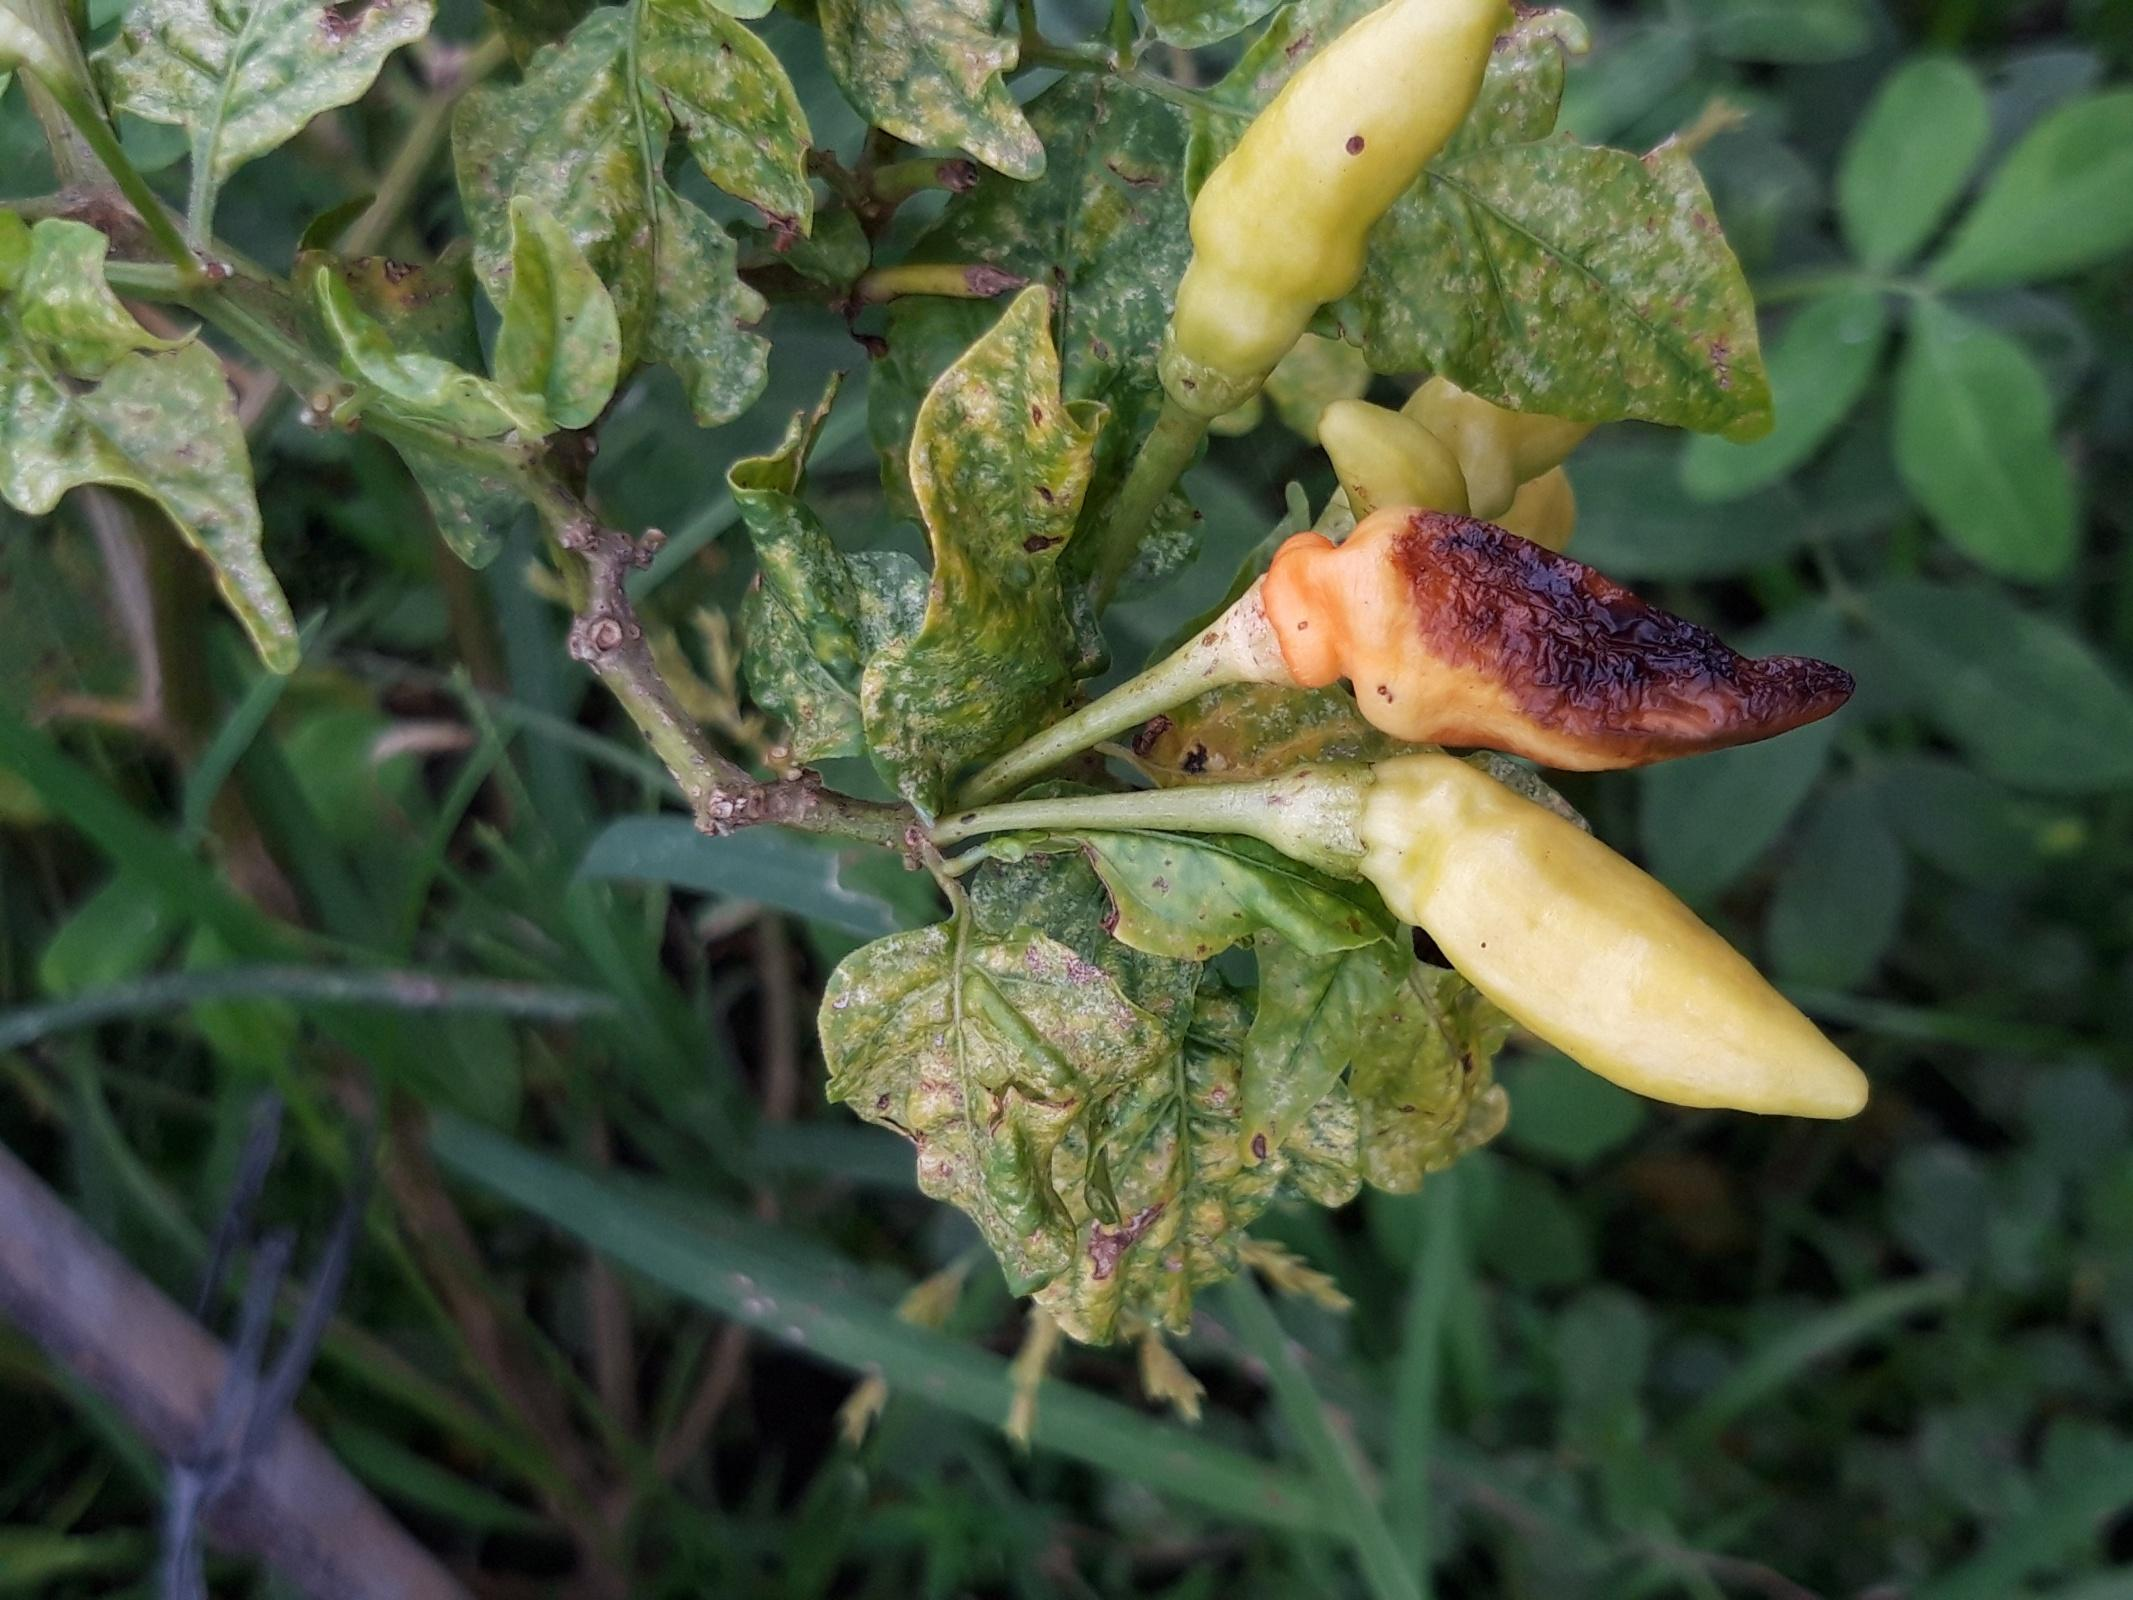antraknosa: (1261, 503, 1861, 773)
cabai_normal: (1276, 748, 1872, 1123), (1155, 0, 1498, 418)
